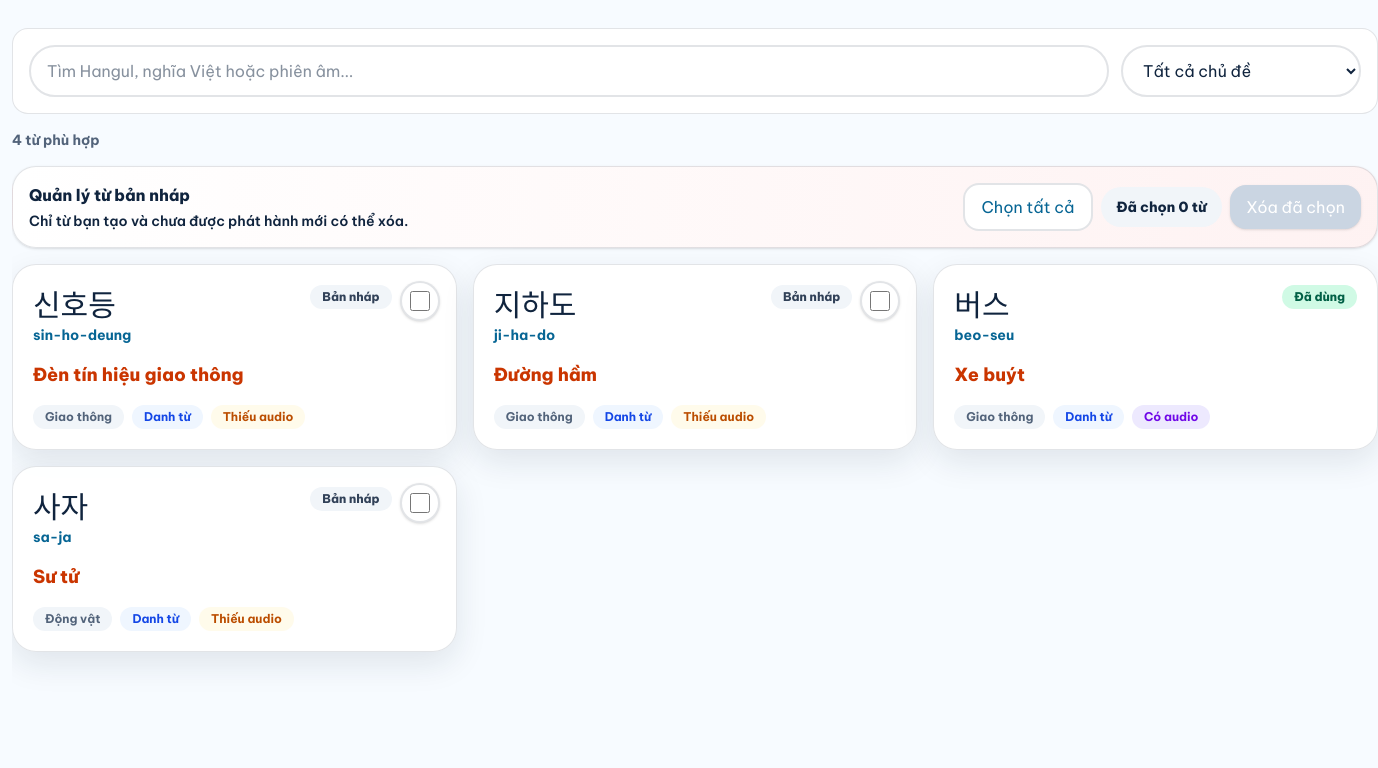
it: VocabularyLibrary bulk deletion › cho chọn từng từ và xóa lựa chọn khi đổi bộ lọc
Click the checkbox named "Chọn từ 신호등" at (420, 301), box [410,291,430,311]
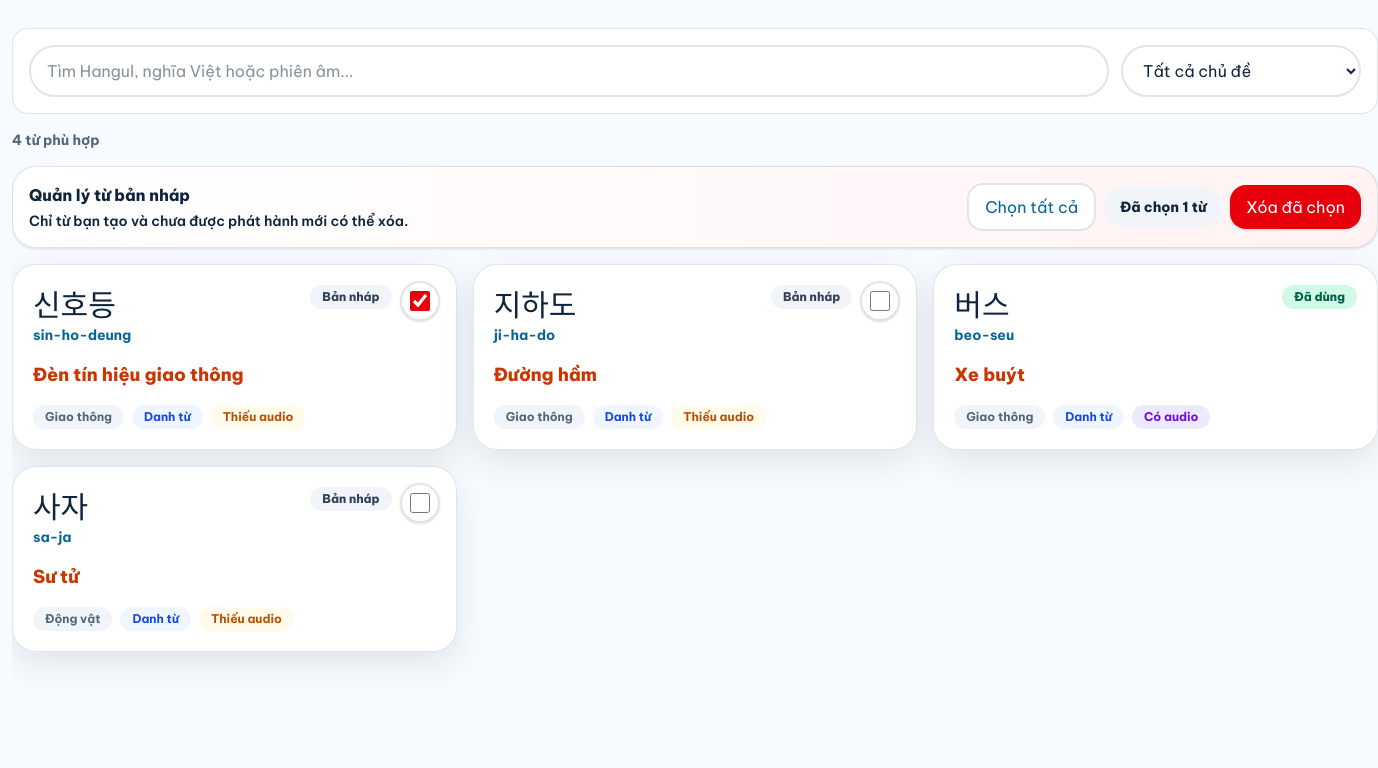
Now the text "Đã chọn 1 từ" is shown, box [1104,187,1222,227]
Select "Động vật" in the dropdown named "Lọc theo chủ đề" at (1241, 71), box [1121,45,1361,97]
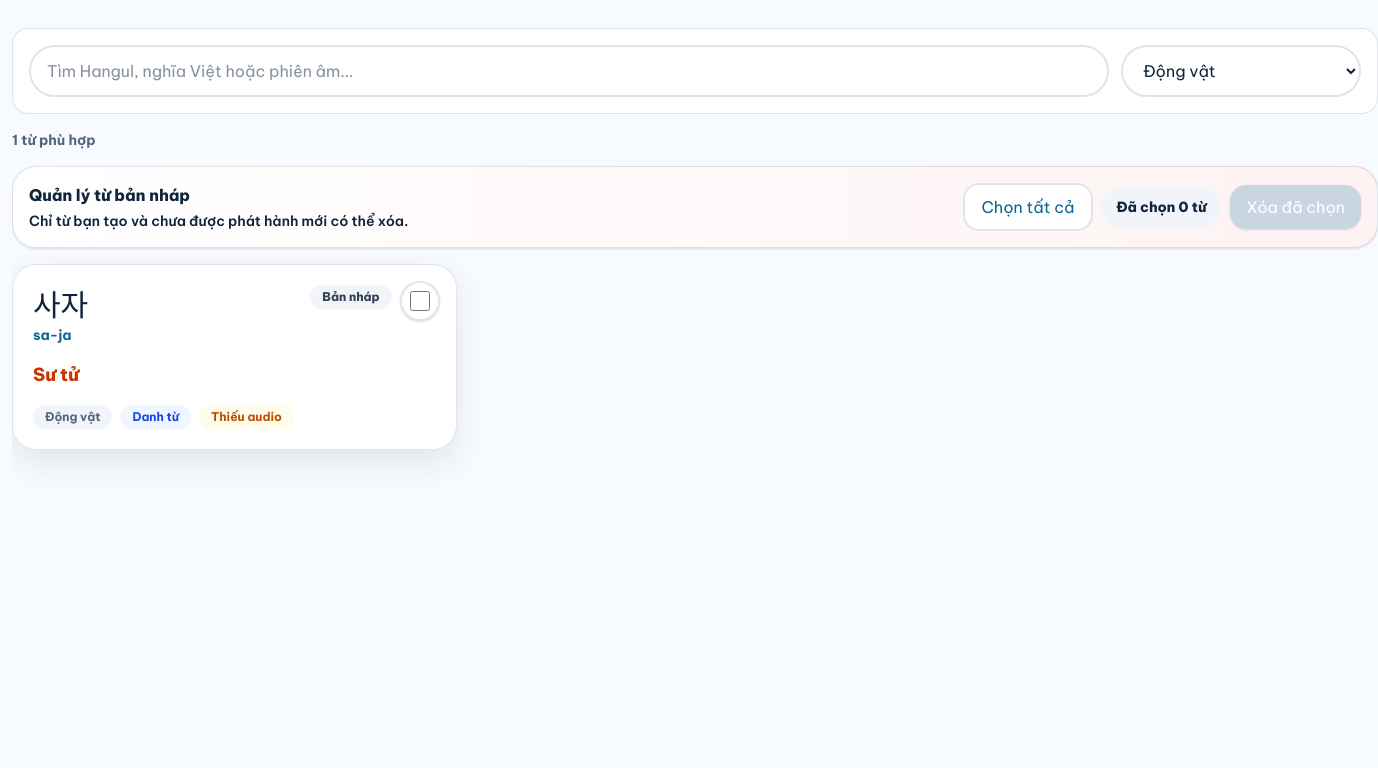
Expected: the form named "vocabularyIdsJson" holds "[]", [1230,185,1361,229]
Now the text "Đã chọn 0 từ" is shown, box [1100,187,1222,227]
